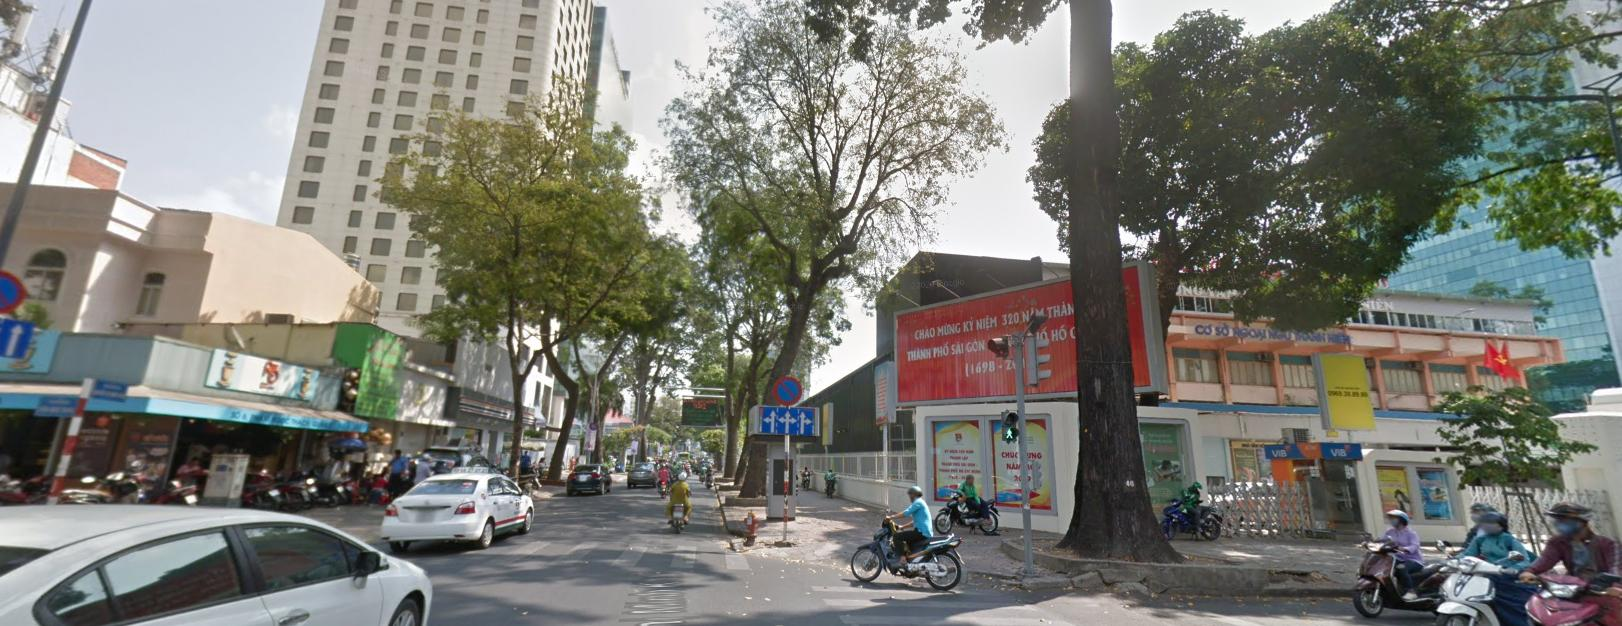Cam dung va do: (769, 372, 803, 407)
